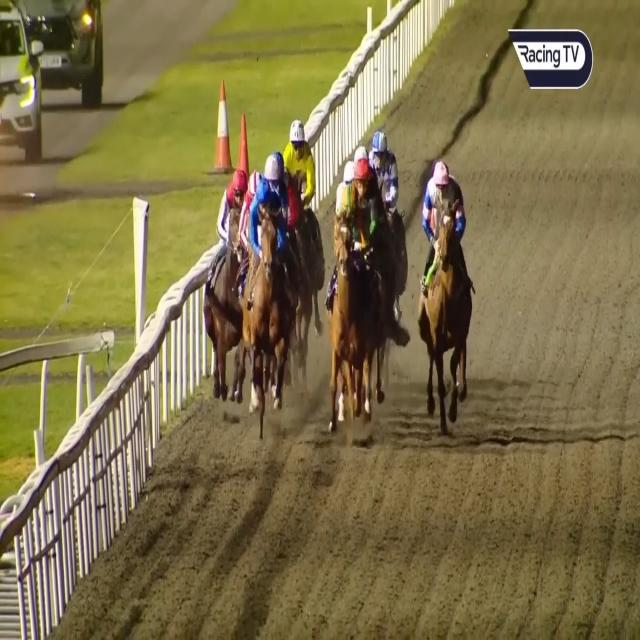horses-racing: (331, 183, 371, 430), (249, 179, 284, 444), (428, 163, 464, 410), (282, 112, 324, 278), (218, 163, 248, 362), (369, 131, 408, 254), (237, 166, 266, 256), (354, 158, 378, 246), (263, 144, 288, 203), (335, 160, 355, 203), (350, 141, 367, 164)
